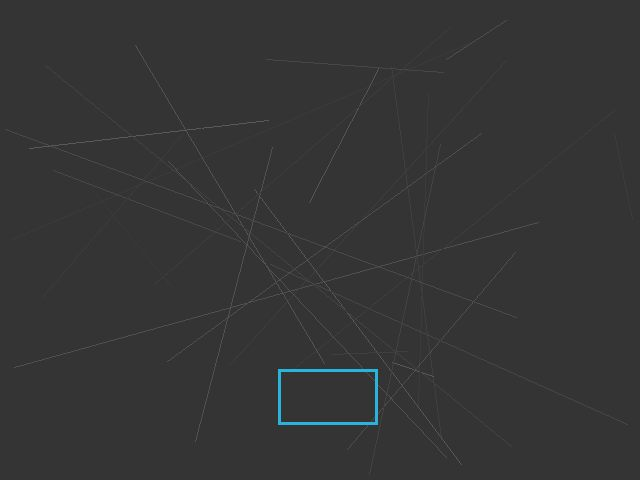D00: (278, 369, 377, 424)
